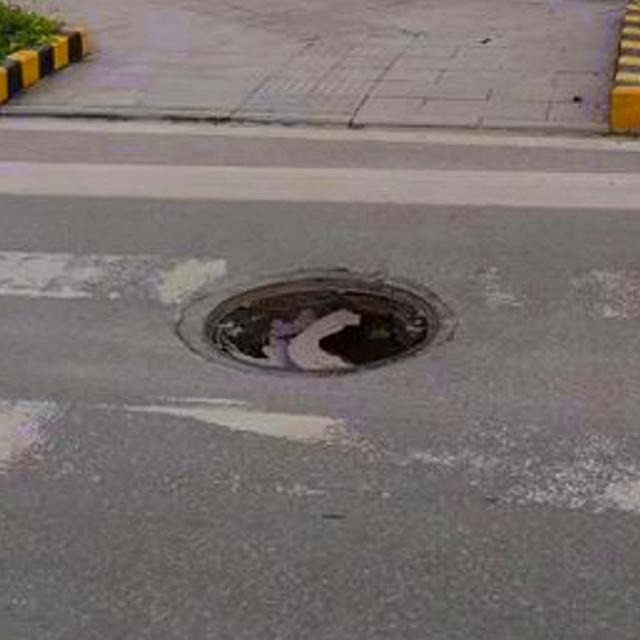broke: (149, 230, 476, 411)
